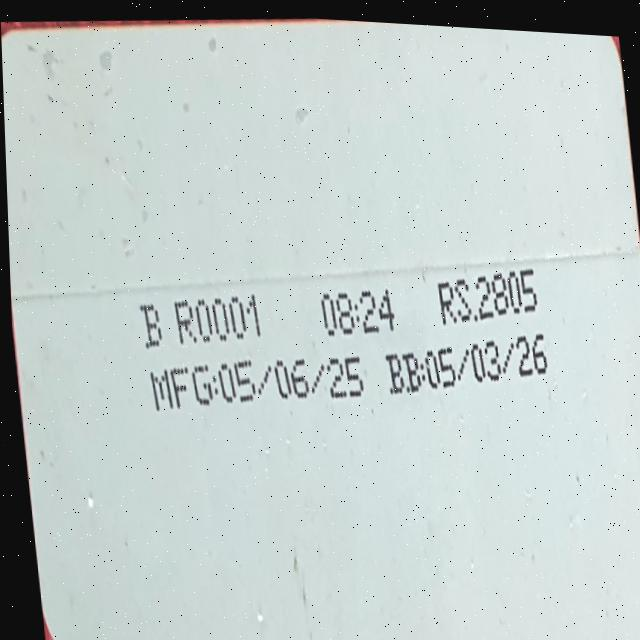BB: (382, 324, 564, 411)
Batch: (135, 277, 269, 361)
MFG: (147, 340, 380, 432)
RS: (429, 263, 550, 333)
TimeStamp: (305, 271, 406, 353)
